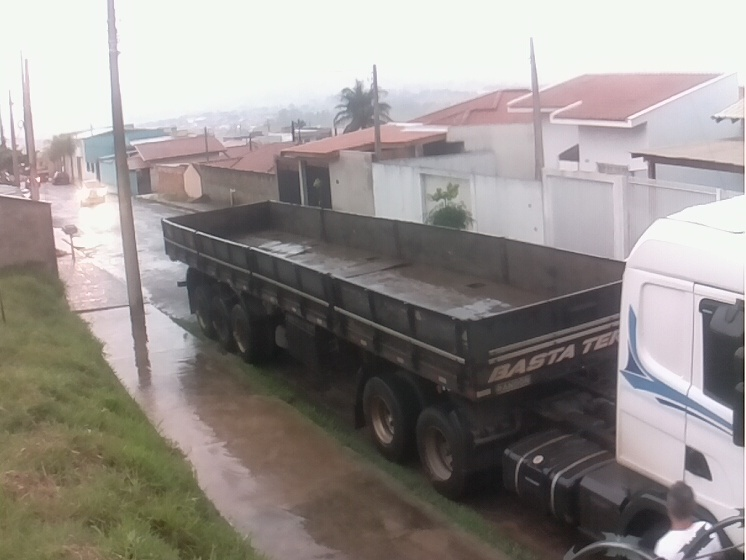person: (649, 481, 723, 560)
